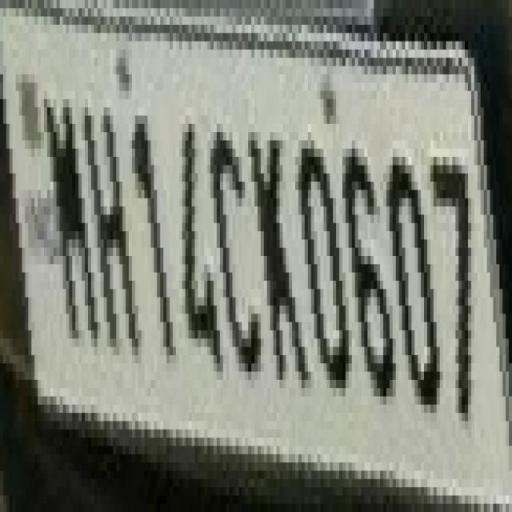number plate: (15, 49, 512, 470)
